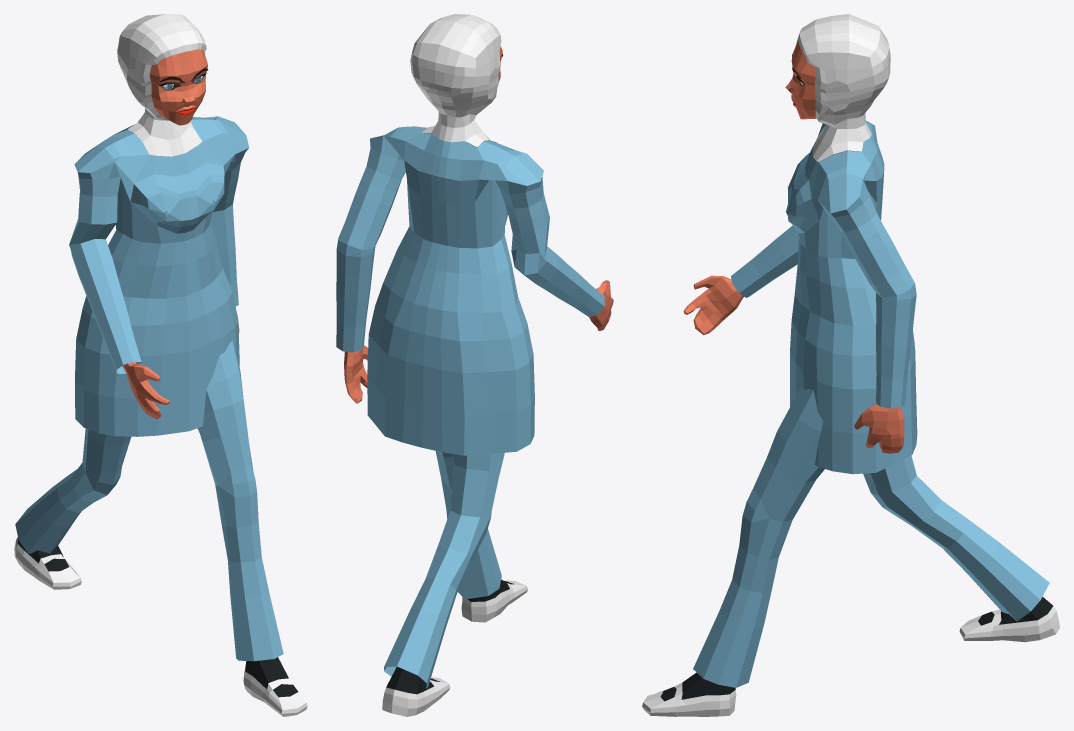
The model's file is Nurse_Walk.fbx.
3 renders of one model, left to right at view 1: azimuth 30°, elevation 25°; view 2: azimuth 150°, elevation 25°; view 3: azimuth 270°, elevation 25°, orthographic. The views are drawn at different scales.
Parts seen in each view (by area): view 1: Nurse_Walk; view 2: Nurse_Walk; view 3: Nurse_Walk.
Part boxes in pixels (x1,y1,x2,y2): Nurse_Walk: (14,14,307,716); Nurse_Walk: (336,14,613,716); Nurse_Walk: (642,14,1059,716).
Size of the model in its own units: 0.2819 by 0.8973 by 0.5063.
